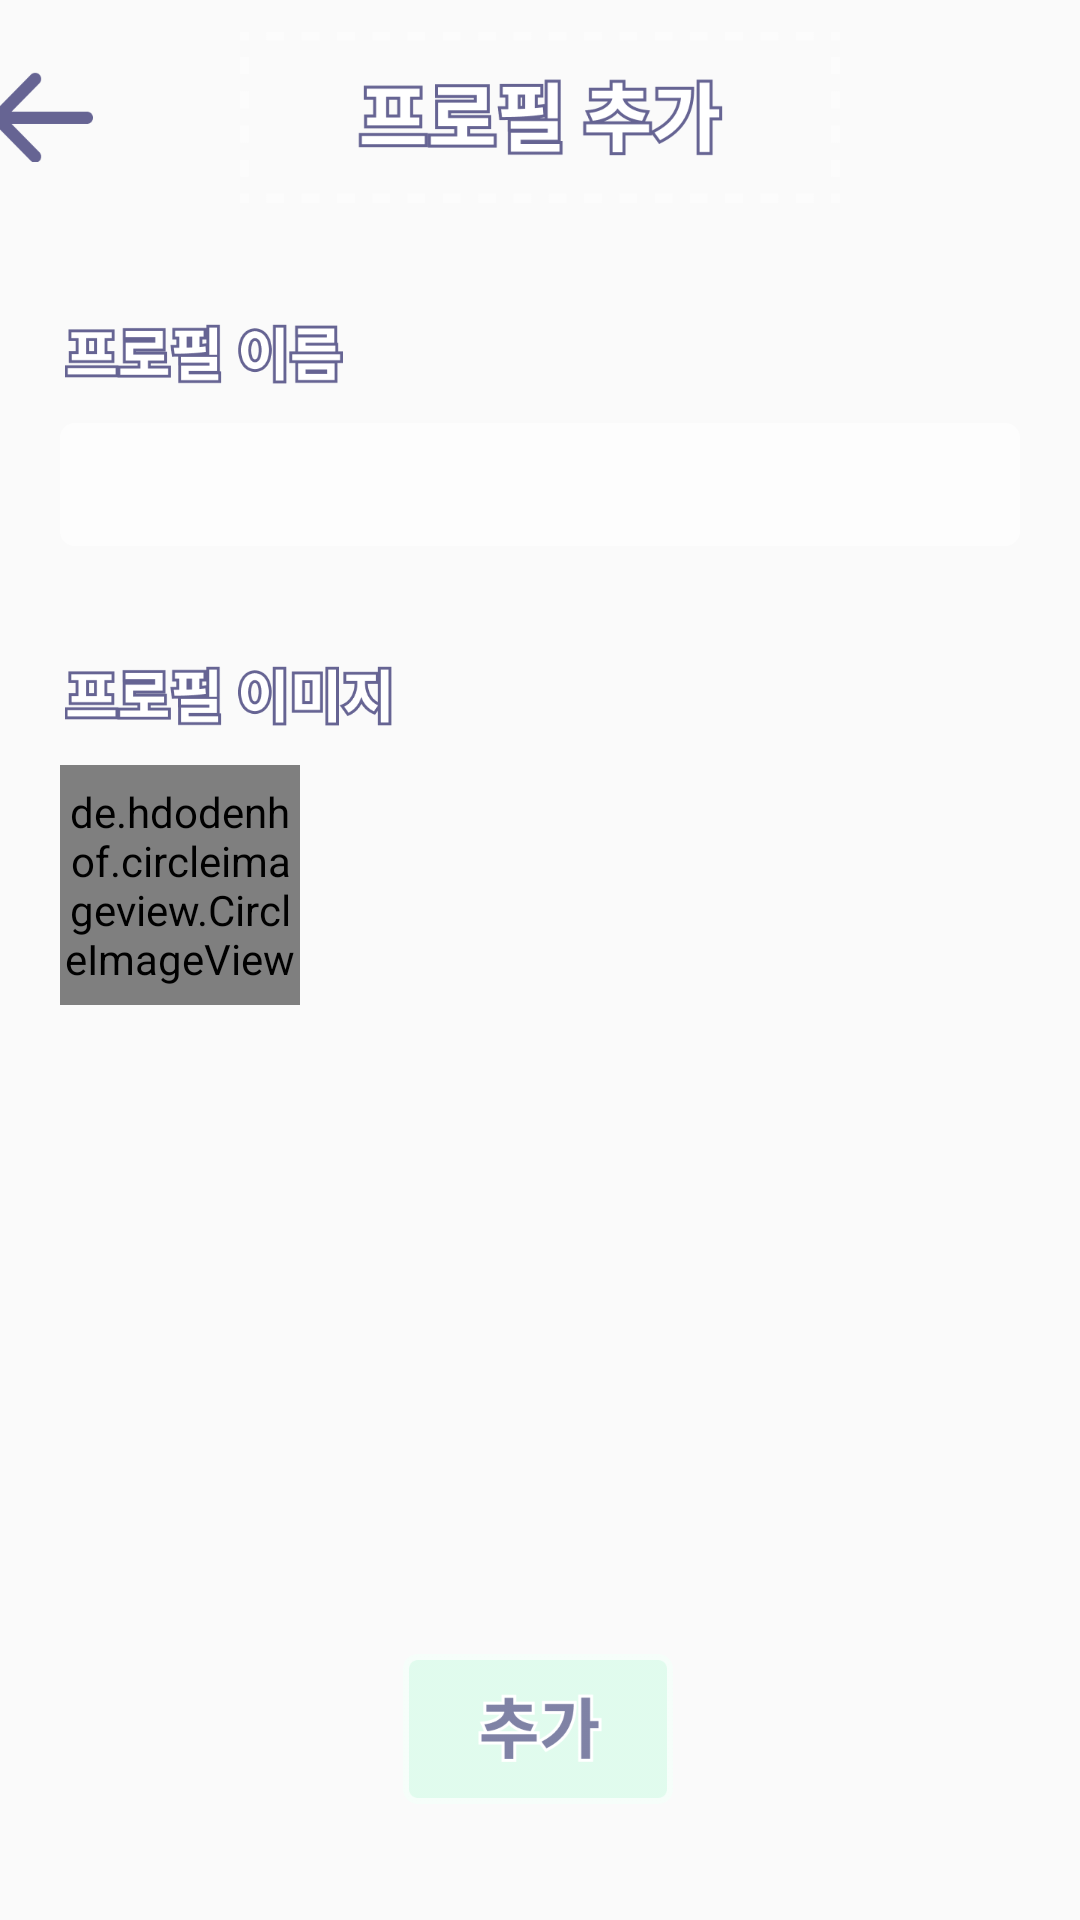

Locate icon controls on the screen. Image size 1080w x 1920h, boxes as (x1, y1, x2, y2).
add changeprofile btnback: (0, 73, 93, 162)
